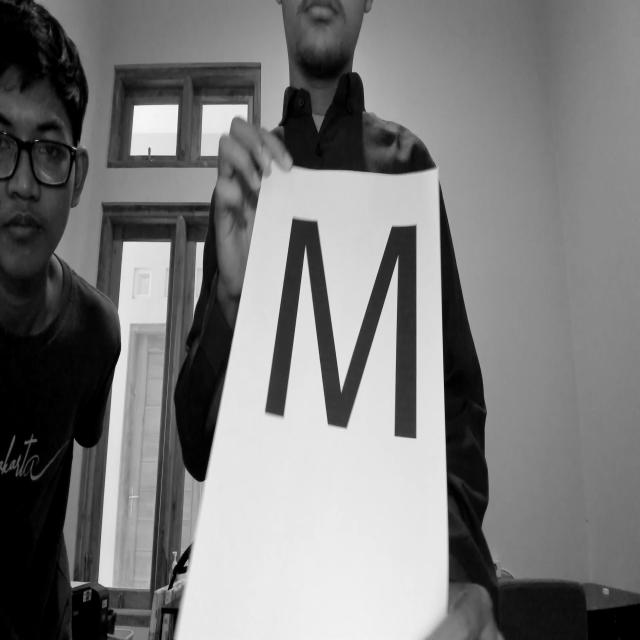m: (251, 178, 427, 471)
